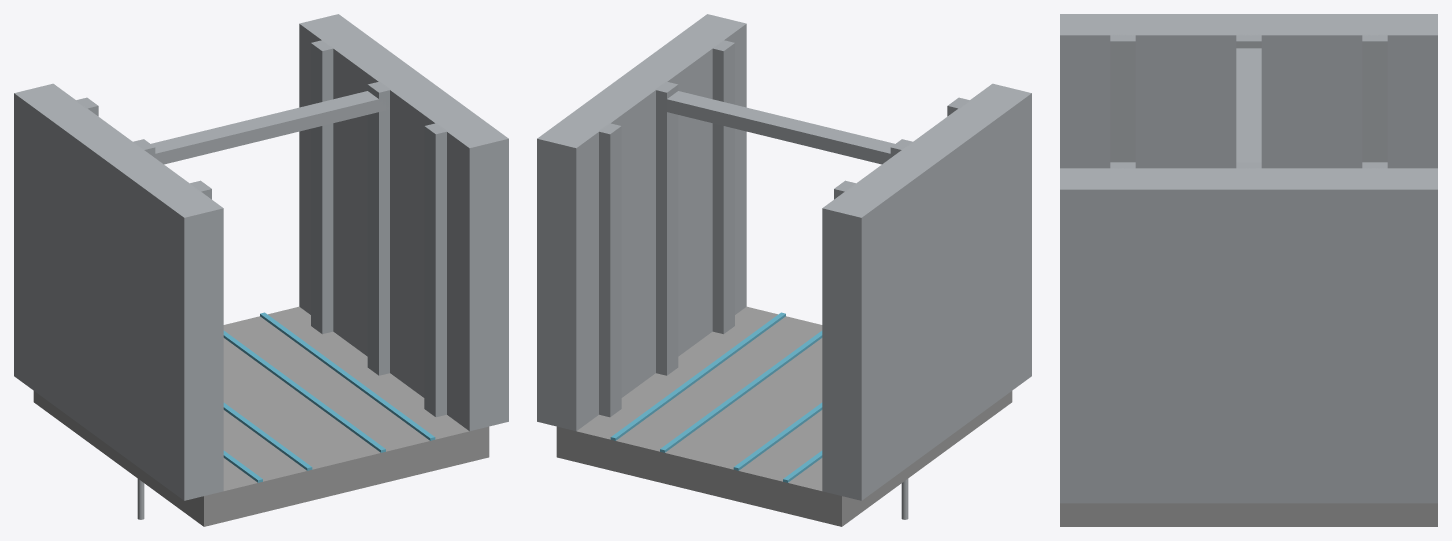
The model's file is trench_module.glb.
The picture shows the model from 3 angles, left to right: view 1: azimuth 30°, elevation 25°; view 2: azimuth 150°, elevation 25°; view 3: azimuth 270°, elevation 25°; orthographic projection. The views are drawn at different scales.
Visible parts, largest first — view 1: left_wall, right_wall, floor_base, pillar_r_40, pillar_r_0, pillar_r_-40, overhead_gantry, floor_rail_35, floor_rail_15, floor_rail_-15; view 2: left_wall, right_wall, floor_base, pillar_r_-40, pillar_r_0, pillar_r_40, overhead_gantry, floor_rail_35, floor_rail_15, floor_rail_-15; view 3: right_wall, left_wall, floor_base, pillar_l_-40, pillar_l_40, overhead_gantry.
Part boxes in pixels (box(x1,y1,x2,y2)): left_wall: box(14, 83, 223, 500); right_wall: box(299, 14, 508, 431); floor_base: box(33, 306, 489, 526); pillar_r_40: box(424, 123, 447, 417); pillar_r_0: box(367, 81, 390, 375); pillar_r_-40: box(311, 40, 333, 334); overhead_gantry: box(151, 91, 388, 164); floor_rail_35: box(260, 312, 435, 440); floor_rail_15: box(223, 330, 385, 452); floor_rail_-15: box(223, 402, 312, 470); left_wall: box(822, 83, 1031, 500); right_wall: box(537, 14, 746, 431); floor_base: box(556, 306, 1012, 526); pillar_r_-40: box(598, 123, 621, 417); pillar_r_0: box(655, 81, 678, 375); pillar_r_40: box(712, 40, 734, 334); overhead_gantry: box(667, 91, 894, 164); floor_rail_35: box(610, 312, 785, 440); floor_rail_15: box(660, 330, 822, 452); floor_rail_-15: box(733, 402, 822, 470); right_wall: box(1060, 168, 1437, 503); left_wall: box(1060, 14, 1437, 168); floor_base: box(1060, 503, 1437, 526); pillar_l_-40: box(1362, 34, 1387, 162); pillar_l_40: box(1110, 34, 1135, 162); overhead_gantry: box(1236, 48, 1261, 162).
Bounding box in the file's own units: 132 × 145 × 120.
